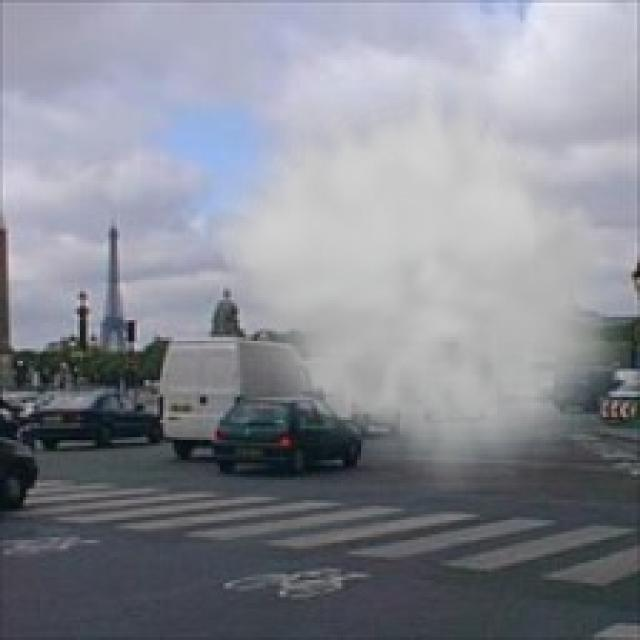Smoke: (212, 69, 632, 492)
